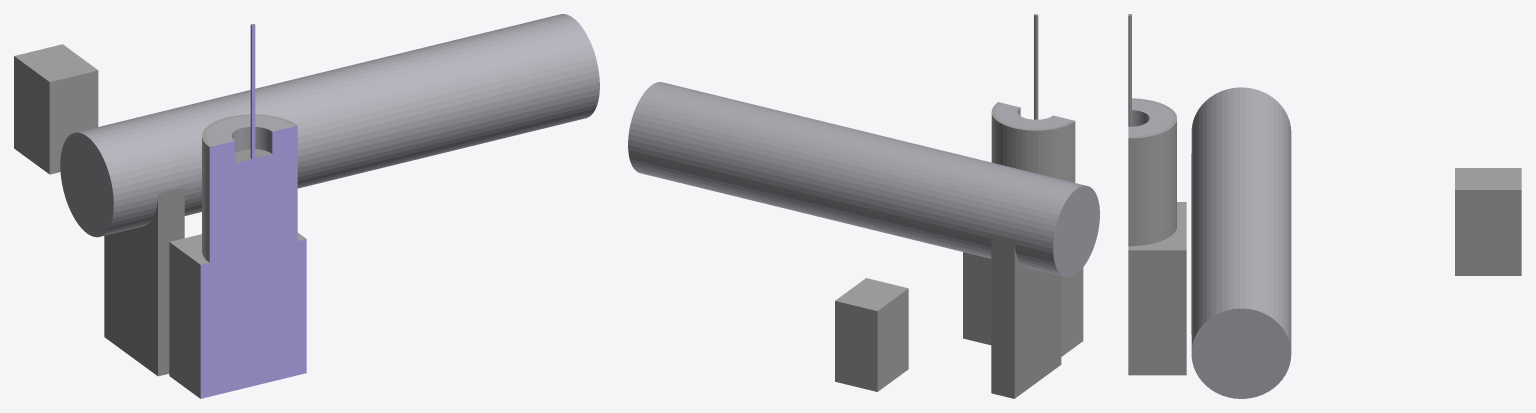
File: baby_100ml_cutaway.glb
3 renders of one model, left to right at view 1: azimuth 30°, elevation 25°; view 2: azimuth 150°, elevation 25°; view 3: azimuth 270°, elevation 25°, orthographic. The views are drawn at different scales.
Visible parts, largest first — view 1: geometry_10, geometry_7, geometry_8, geometry_9, geometry_3, geometry_6, geometry_5, geometry_2, geometry_0, geometry_1, geometry_4; view 2: geometry_10, geometry_8, geometry_9, geometry_6, geometry_0, geometry_2, geometry_4; view 3: geometry_10, geometry_6, geometry_9, geometry_0, geometry_2, geometry_4.
Boxes of the visible parts, box(x1,y1,x2,y2) form: geometry_10: box(60, 14, 599, 237); geometry_7: box(200, 239, 306, 398); geometry_8: box(104, 187, 184, 376); geometry_9: box(14, 44, 98, 174); geometry_3: box(213, 126, 294, 261); geometry_6: box(169, 233, 305, 398); geometry_5: box(235, 25, 272, 256); geometry_2: box(206, 116, 293, 153); geometry_0: box(202, 114, 297, 262); geometry_1: box(209, 125, 297, 262); geometry_4: box(235, 24, 271, 162); geometry_10: box(628, 82, 1099, 277); geometry_8: box(991, 233, 1061, 398); geometry_9: box(835, 278, 908, 391); geometry_6: box(963, 252, 1083, 356); geometry_0: box(991, 102, 1075, 182); geometry_2: box(995, 103, 1071, 129); geometry_4: box(1034, 14, 1038, 119); geometry_10: box(1191, 87, 1291, 398); geometry_6: box(1128, 202, 1186, 375); geometry_9: box(1455, 168, 1521, 275); geometry_0: box(1128, 98, 1176, 246); geometry_2: box(1128, 100, 1173, 136); geometry_4: box(1128, 14, 1131, 126).
Bounding box in the file's own units: 0.55 × 0.39 × 0.4132.
